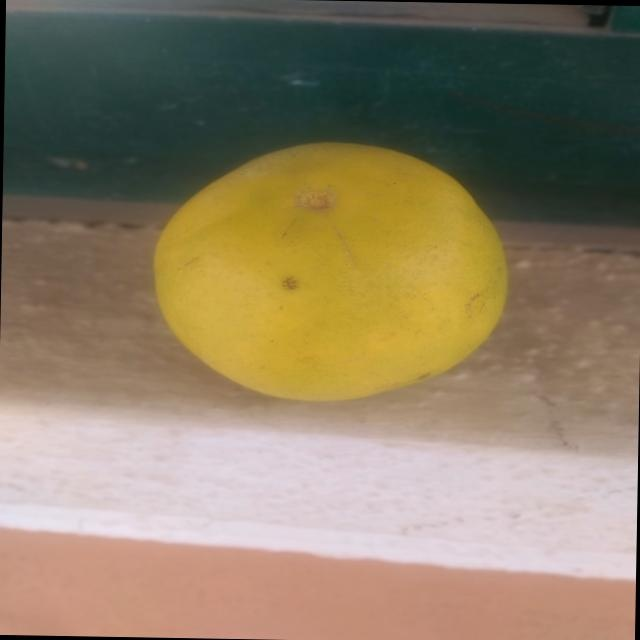agrume: (142, 132, 518, 417)
